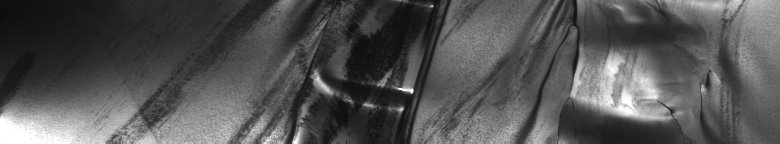ke: (235, 4, 728, 136)
